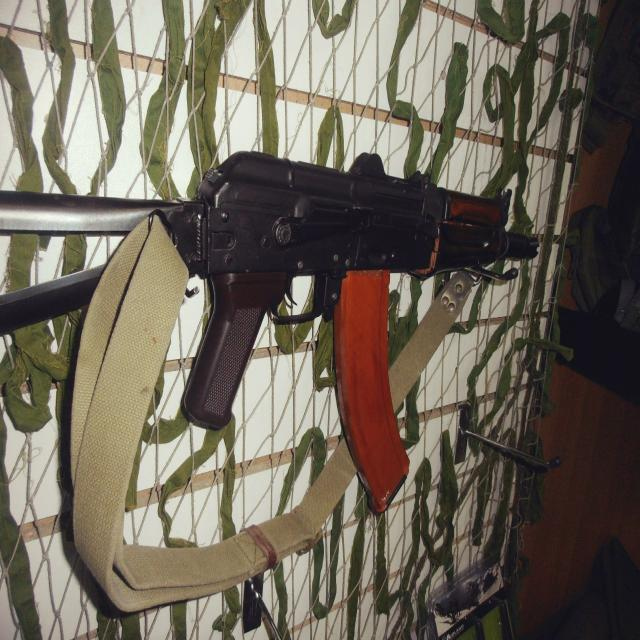firearm: (0, 148, 540, 520)
